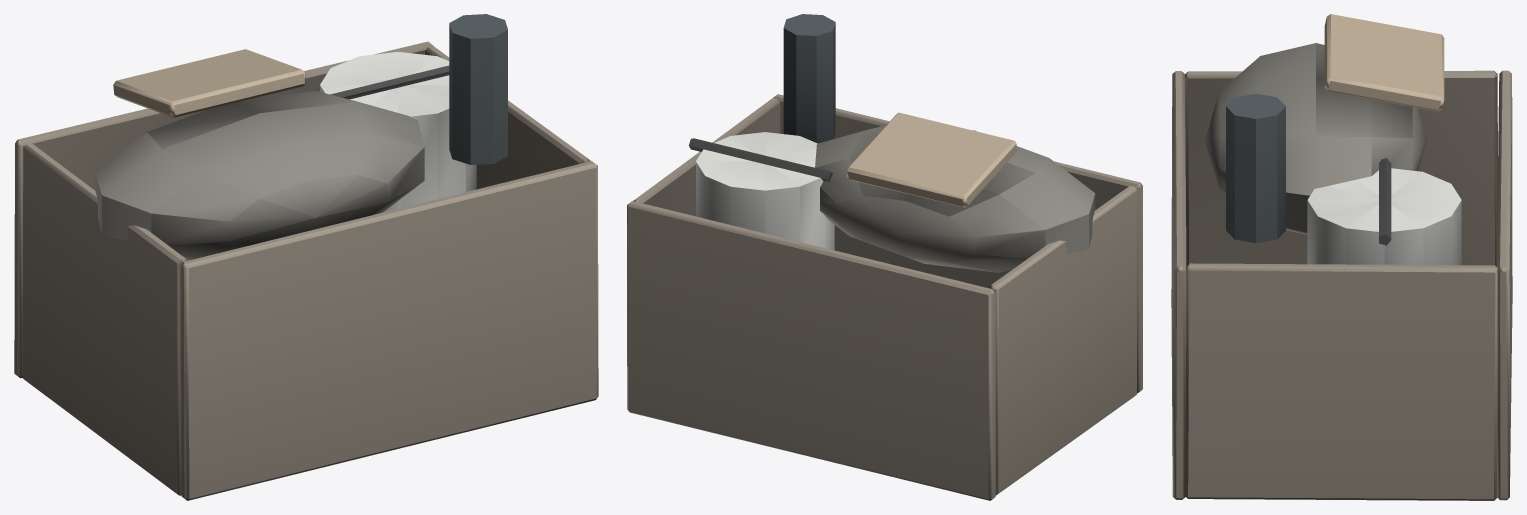
The model's file is belongings_box.glb.
3 renders of one model, left to right at view 1: azimuth 30°, elevation 25°; view 2: azimuth 150°, elevation 25°; view 3: azimuth 270°, elevation 25°, orthographic. The views are drawn at different scales.
Visible parts, largest first — view 1: static; view 2: static; view 3: static.
Boxes of the visible parts, x1,y1,x2,y2 form: static: (14,14,598,500); static: (627,14,1142,500); static: (1171,14,1512,500).
Size of the model in its own units: 0.5645 by 0.461 by 0.398.
